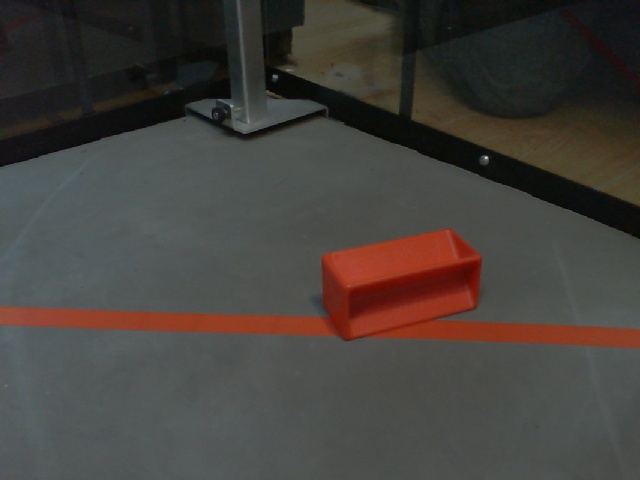RedSample: (318, 224, 483, 342)
